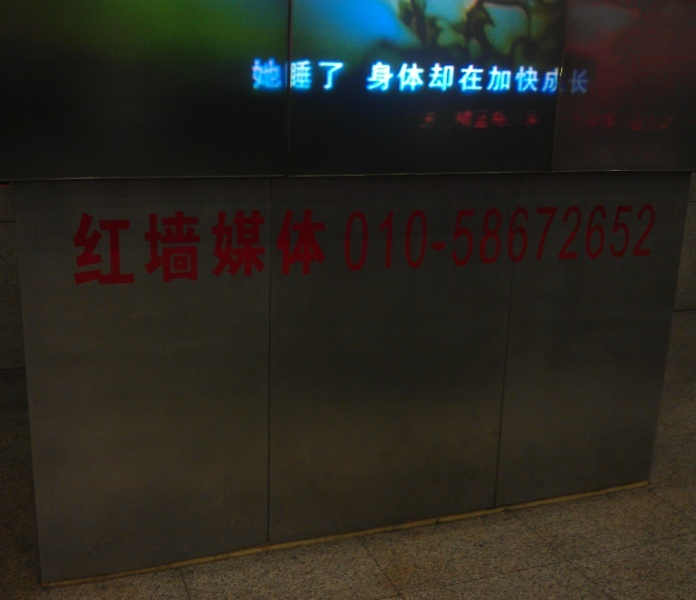text: (81, 202, 96, 286), (97, 202, 112, 286), (113, 202, 128, 286), (129, 202, 144, 286), (145, 202, 160, 286), (161, 202, 176, 286), (177, 202, 192, 286), (193, 202, 208, 286), (209, 202, 224, 286), (225, 202, 240, 286), (241, 202, 256, 286), (257, 202, 272, 286), (273, 202, 288, 286), (289, 202, 304, 286), (305, 202, 320, 286), (321, 202, 336, 286), (337, 202, 352, 286), (353, 202, 368, 286), (369, 202, 384, 286), (385, 202, 400, 286), (401, 202, 416, 286), (417, 202, 432, 286), (433, 202, 448, 286), (449, 202, 464, 286), (465, 202, 480, 286), (481, 202, 496, 286), (497, 202, 512, 286), (513, 202, 528, 286), (529, 202, 544, 286), (545, 202, 560, 286), (561, 202, 576, 286), (577, 202, 592, 286), (593, 202, 608, 286), (609, 202, 624, 286), (625, 202, 640, 286), (641, 202, 656, 286), (70, 202, 80, 286), (369, 61, 384, 97), (385, 61, 400, 97), (401, 61, 416, 97), (417, 61, 432, 97), (433, 61, 448, 97), (449, 61, 464, 97), (465, 61, 480, 97), (481, 61, 496, 97), (497, 61, 512, 97), (513, 61, 528, 97), (529, 61, 544, 97), (545, 61, 560, 97), (561, 61, 576, 97), (257, 57, 272, 93), (273, 57, 288, 93), (289, 57, 304, 93), (305, 57, 320, 93), (321, 57, 336, 93), (657, 202, 662, 286), (577, 61, 588, 97), (249, 57, 256, 93), (337, 57, 344, 93), (365, 61, 368, 97)
